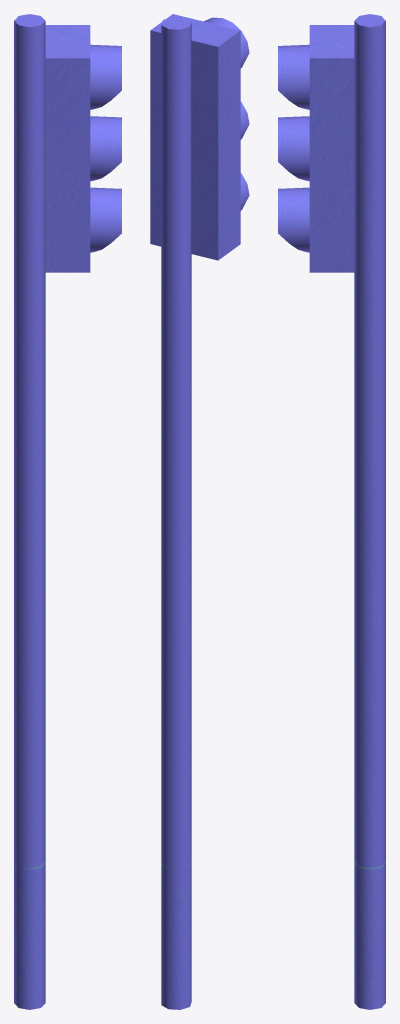
File: trafficLight.fbx
3 views of the same model, side by side, from view 1: azimuth 90°, elevation 25°; view 2: azimuth 150°, elevation 25°; view 3: azimuth 270°, elevation 25° (orthographic).
Parts seen in each view (by area): view 1: trafficLight, pCube2, polySurface1, polySurface2, polySurface3; view 2: trafficLight, pCube2, polySurface3; view 3: trafficLight, pCube2, polySurface1, polySurface2, polySurface3.
Boxes of the visible parts, left/top/right/bottom form: trafficLight: left=14, top=14, right=45, bottom=1009; pCube2: left=45, top=25, right=90, bottom=272; polySurface1: left=90, top=187, right=121, bottom=252; polySurface2: left=90, top=116, right=121, bottom=181; polySurface3: left=90, top=44, right=121, bottom=109; trafficLight: left=161, top=17, right=191, bottom=1009; pCube2: left=150, top=14, right=240, bottom=260; polySurface3: left=204, top=17, right=249, bottom=68; trafficLight: left=354, top=14, right=385, bottom=1009; pCube2: left=309, top=25, right=354, bottom=272; polySurface1: left=278, top=187, right=309, bottom=252; polySurface2: left=278, top=116, right=309, bottom=181; polySurface3: left=278, top=44, right=309, bottom=109.
Size of the model in its own units: 25 by 345 by 34.3.
Materials: 1 (1 with a texture image).
